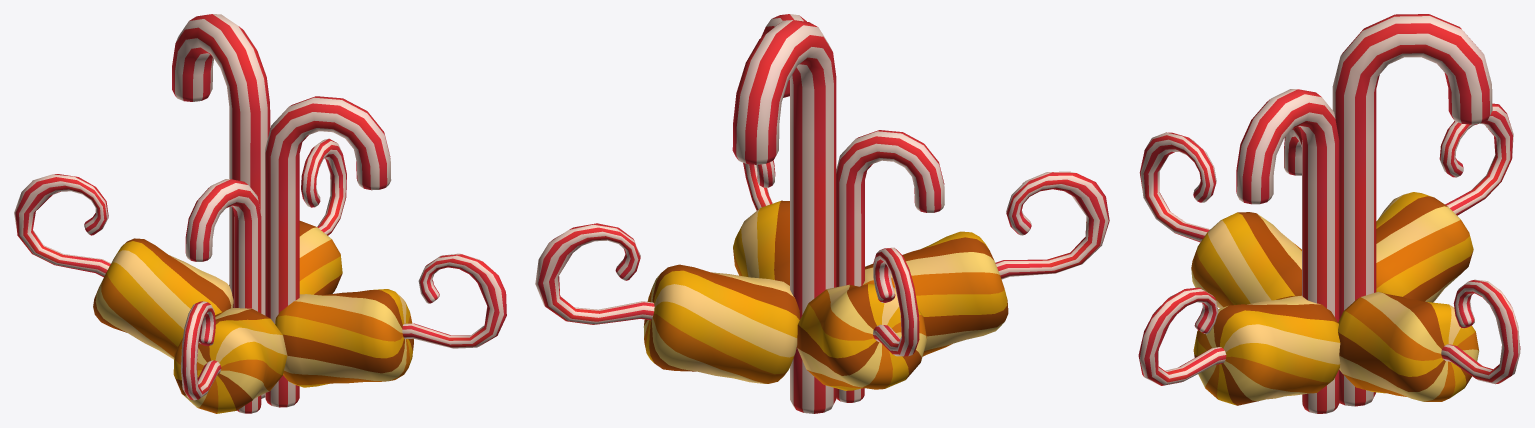
File: cw_PlantsFlowers_9.fbx
The picture shows the model from 3 angles, left to right: view 1: azimuth 30°, elevation 25°; view 2: azimuth 150°, elevation 25°; view 3: azimuth 270°, elevation 25°; orthographic projection. The views are drawn at different scales.
Parts seen in each view (by area): view 1: cw_pf_9; view 2: cw_pf_9; view 3: cw_pf_9.
Boxes of the visible parts, left/top/right/bottom form: cw_pf_9: left=14, top=14, right=506, bottom=413; cw_pf_9: left=535, top=14, right=1109, bottom=413; cw_pf_9: left=1138, top=14, right=1520, bottom=413.
Bounding box in the file's own units: 187 × 190 × 172.
